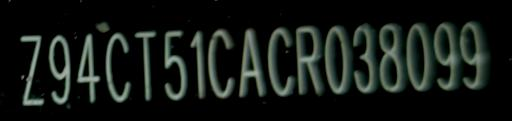letter: (206, 19, 240, 108), (130, 24, 164, 105), (72, 26, 104, 109), (322, 20, 354, 99), (100, 27, 132, 106), (266, 21, 296, 104), (160, 22, 190, 105), (294, 20, 326, 97), (14, 31, 46, 108), (458, 16, 488, 97), (236, 21, 266, 100), (352, 16, 380, 99), (44, 29, 74, 106), (428, 18, 458, 91), (404, 15, 430, 94), (378, 18, 404, 95), (188, 21, 208, 104)
